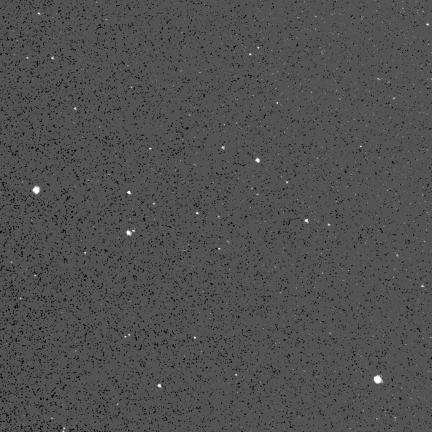blob: (374, 376, 383, 384), (33, 186, 41, 195), (127, 230, 133, 236), (255, 158, 260, 162), (305, 219, 308, 223), (127, 191, 131, 194)
